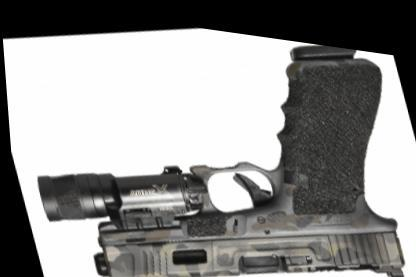pistol: (0, 0, 415, 275)
